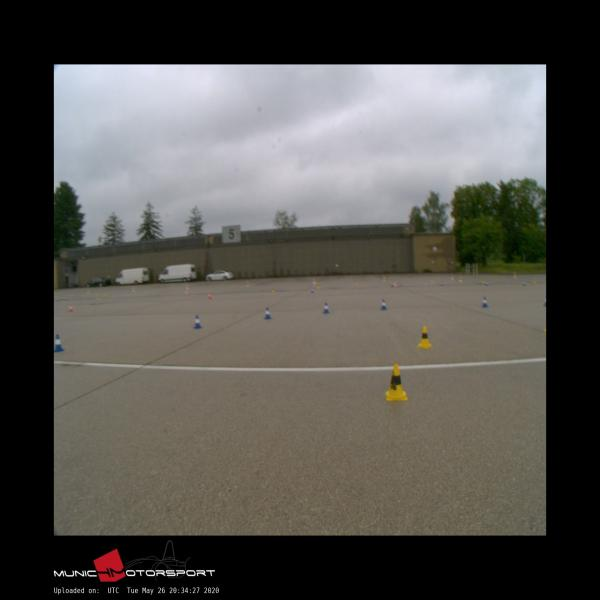blue_cone: (54, 334, 63, 353), (194, 314, 201, 328), (322, 302, 330, 314), (264, 308, 271, 320), (379, 299, 386, 310), (482, 298, 488, 308)
yellow_cone: (385, 364, 407, 399), (418, 326, 432, 346)
